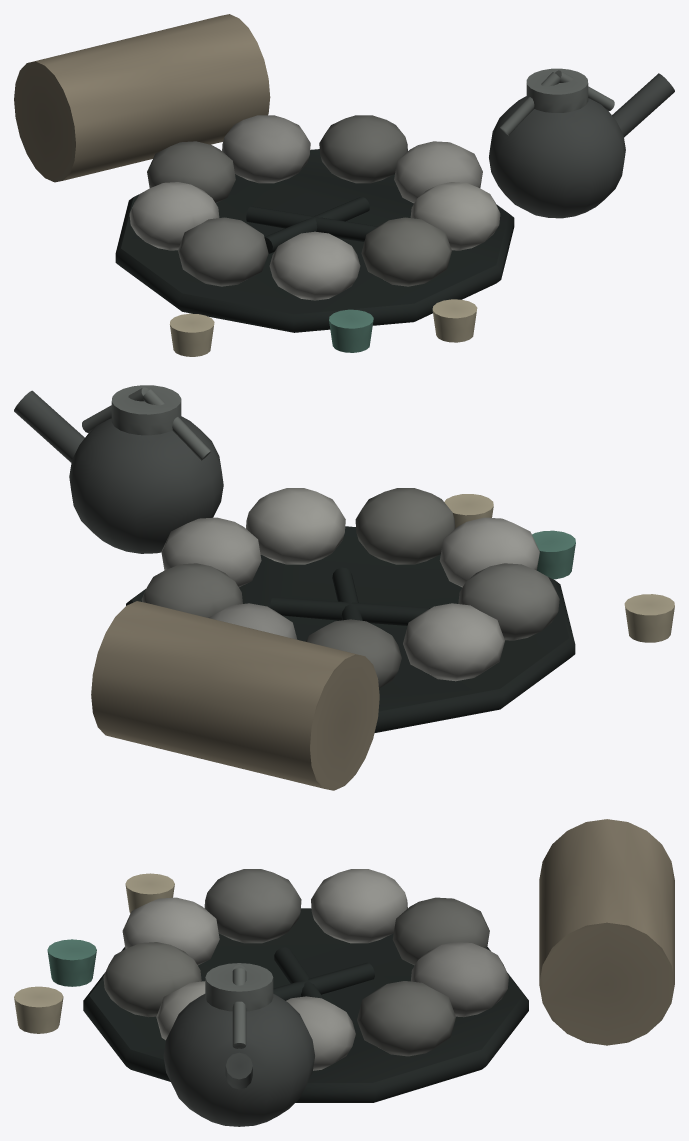
Rendered from tea_hearth_a.glb.
3 renders of one model, top to bottom at view 1: azimuth 30°, elevation 25°; view 2: azimuth 150°, elevation 25°; view 3: azimuth 270°, elevation 25°, orthographic. The views are drawn at different scales.
Parts seen in each view (by area): view 1: Surface; view 2: Surface; view 3: Surface.
Boxes of the visible parts, x1=… form: Surface: x1=14, y1=14, x2=674, y2=356; Surface: x1=14, y1=385, x2=674, y2=790; Surface: x1=14, y1=819, x2=674, y2=1126.
Size of the model in its own units: 3.06 by 0.8041 by 2.97.
